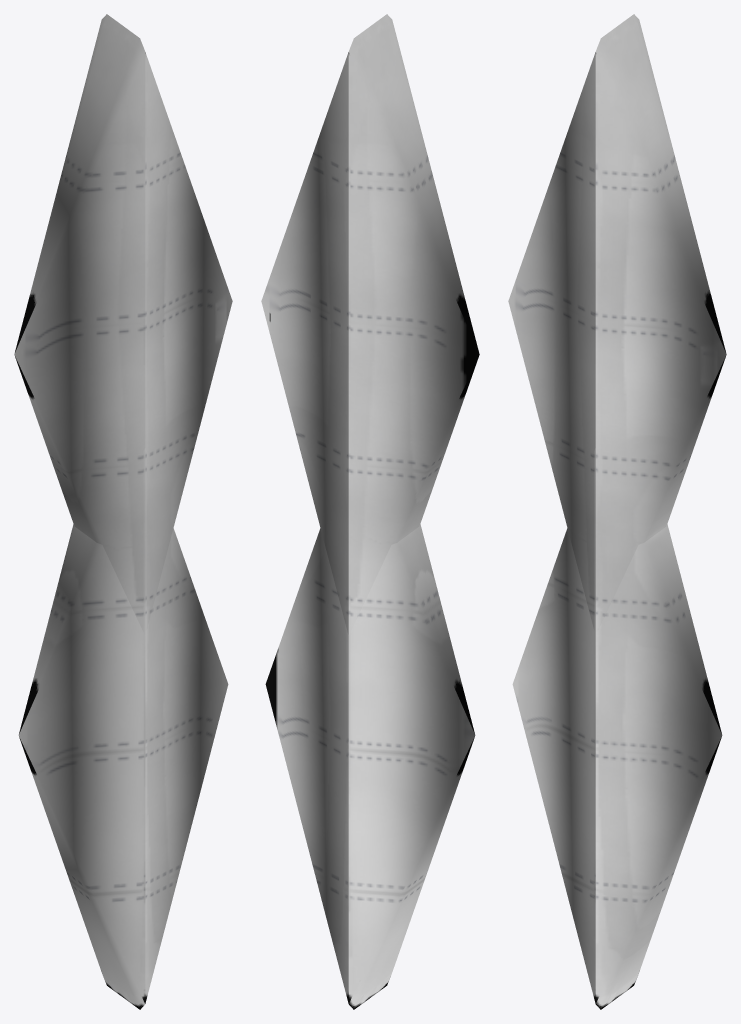
Rendered from RightUpperLeg_C2.fbx.
3 renders of one model, left to right at view 1: azimuth 30°, elevation 25°; view 2: azimuth 150°, elevation 25°; view 3: azimuth 330°, elevation 25°, orthographic.
Parts seen in each view (by area): view 1: Civ_Jogging_RightUpperLeg_C2; view 2: Civ_Jogging_RightUpperLeg_C2; view 3: Civ_Jogging_RightUpperLeg_C2.
Boxes of the visible parts, left/top/right/bottom form: Civ_Jogging_RightUpperLeg_C2: left=14, top=14, right=232, bottom=1009; Civ_Jogging_RightUpperLeg_C2: left=261, top=14, right=479, bottom=1009; Civ_Jogging_RightUpperLeg_C2: left=508, top=14, right=726, bottom=1009.
Size of the model in its own units: 0.516 by 2.19 by 0.1786.
